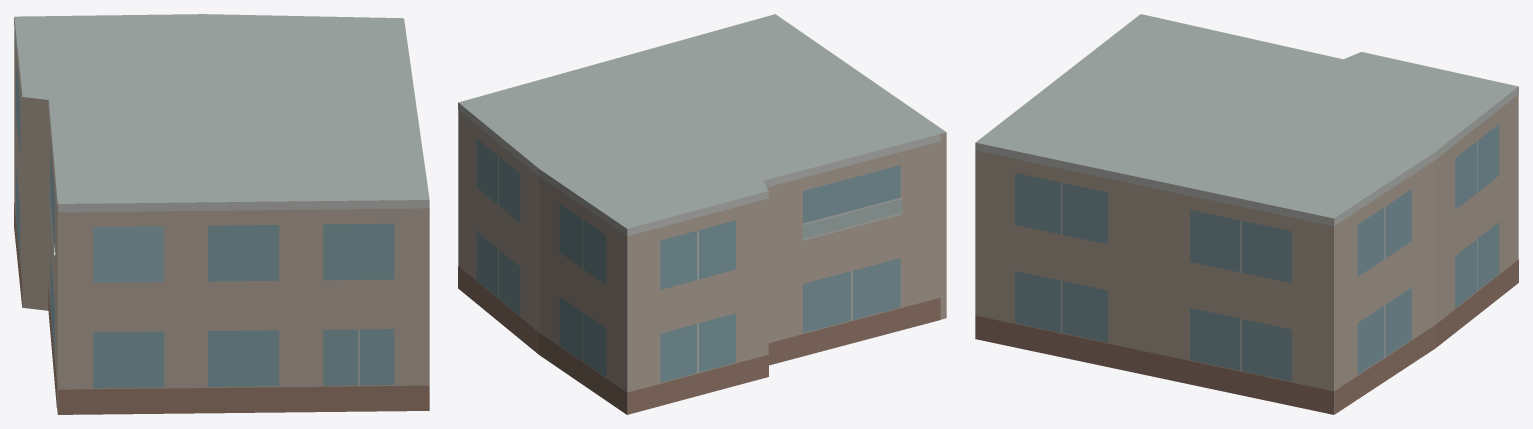
Rendered from survey-upis-32601723.glb.
3 renders of one model, left to right at view 1: azimuth 30°, elevation 25°; view 2: azimuth 150°, elevation 25°; view 3: azimuth 270°, elevation 25°, orthographic. The views are drawn at different scales.
Parts seen in each view (by area): view 1: survey-upis-32601723.tmp; view 2: survey-upis-32601723.tmp; view 3: survey-upis-32601723.tmp.
Part boxes in pixels (x1=…): survey-upis-32601723.tmp: x1=14, y1=14, x2=429, y2=414; survey-upis-32601723.tmp: x1=458, y1=14, x2=946, y2=414; survey-upis-32601723.tmp: x1=975, y1=14, x2=1518, y2=414.
Bounding box in the file's own units: 13.63 × 6.1 × 15.31.
